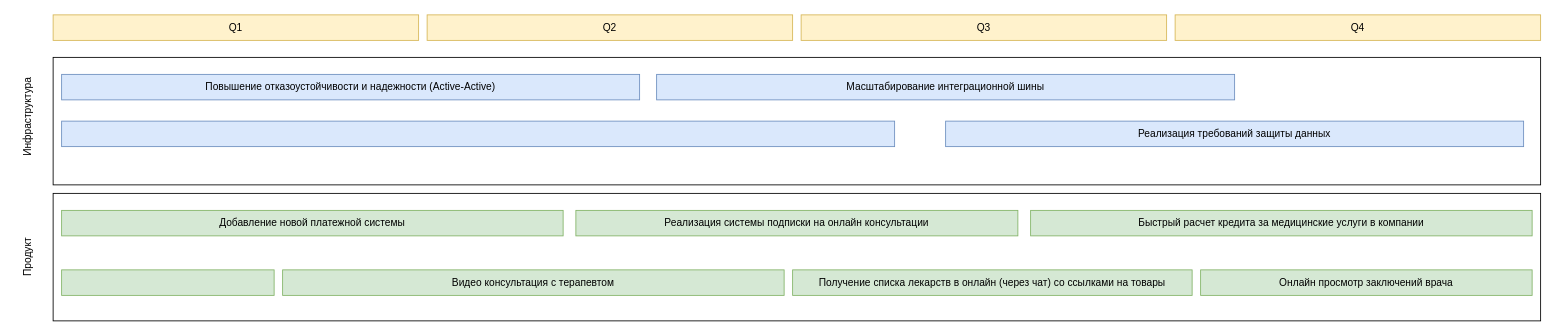
This 1556x336 diagram has some shape labels left out. Each missing label, with the box of its shape:
Возможность записи онлайн в клинику: (61, 269, 274, 295)
Создание системы мониторинга: (61, 120, 895, 147)
